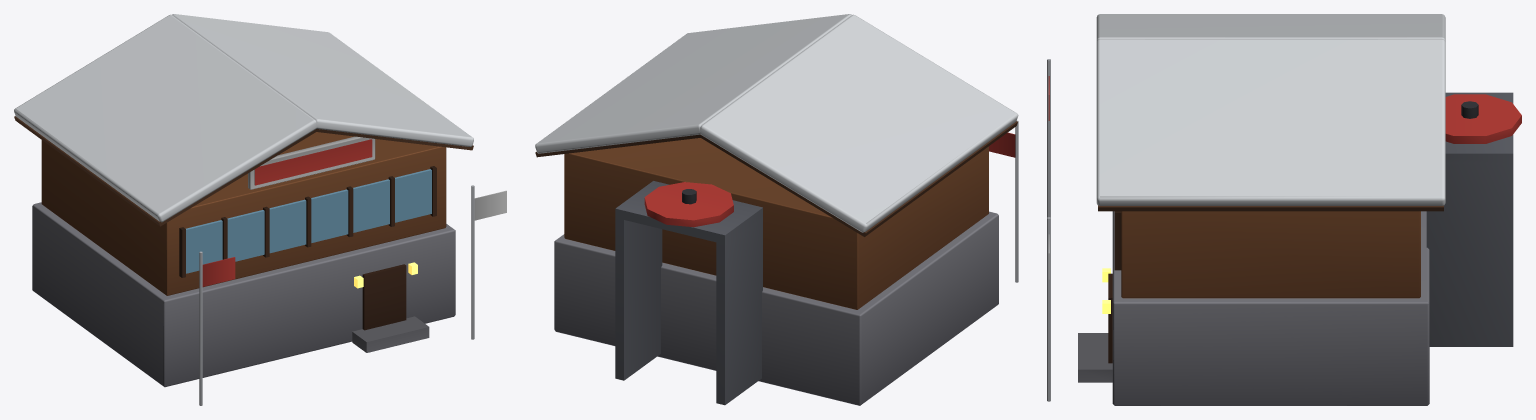
File: prop.glacier_station.lod1.glb
3 views of the same model, side by side, from view 1: azimuth 30°, elevation 25°; view 2: azimuth 150°, elevation 25°; view 3: azimuth 270°, elevation 25° (orthographic). The views are drawn at different scales.
Parts seen in each view (by area): view 1: glacier_station; view 2: glacier_station; view 3: glacier_station.
Boxes of the visible parts, x1,y1,x2,y2 form: glacier_station: (14, 14, 506, 405); glacier_station: (535, 14, 1018, 405); glacier_station: (1047, 14, 1521, 405).
Size of the model in its own units: 15.68 by 10.84 by 16.47.
